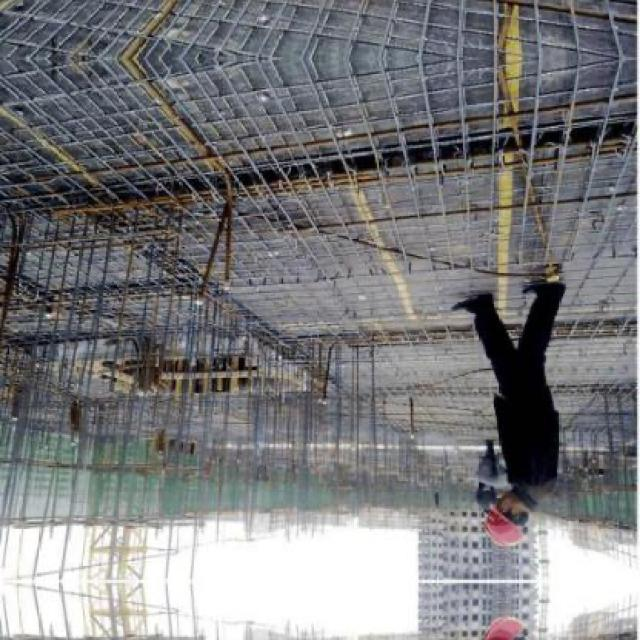con casco: (469, 490, 559, 554)
